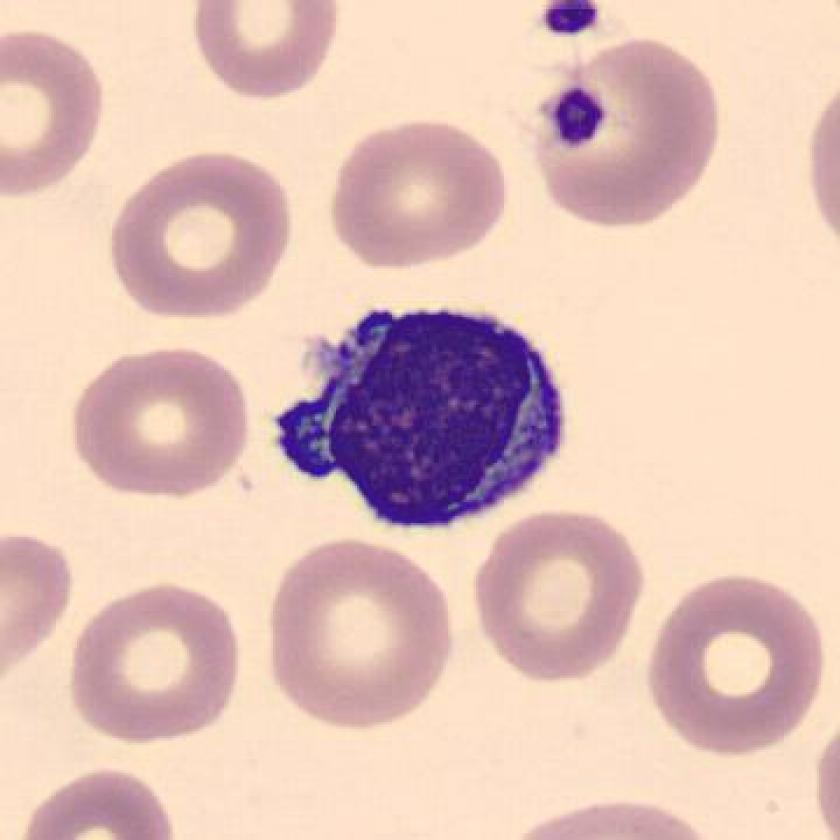lymphocyte: (258, 279, 587, 554)
platelets: (543, 85, 619, 158), (533, 1, 604, 44)
